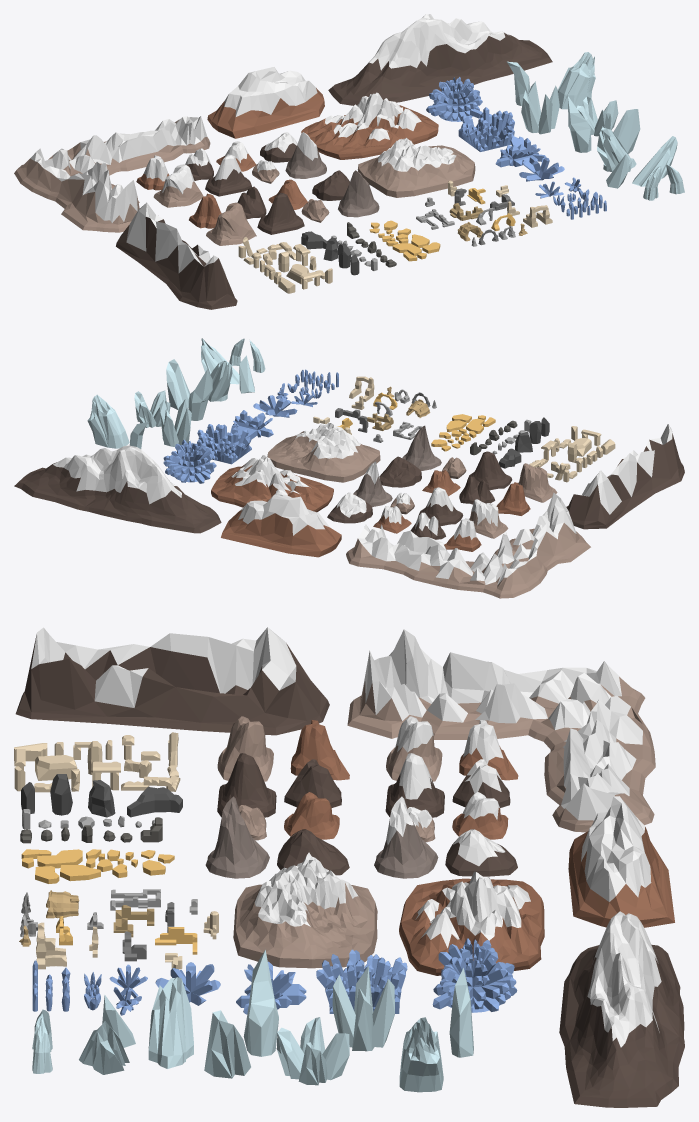
The model's file is stones_main.fbx.
The picture shows the model from 3 angles, top to bottom: view 1: azimuth 30°, elevation 25°; view 2: azimuth 150°, elevation 25°; view 3: azimuth 270°, elevation 25°; orthographic projection. The views are drawn at different scales.
Visible parts, largest first — view 1: mountain_2, mountain_4, mountain_1, mountain_3, mountain_22, mountain_21, crystal_23, crystal_22, sharp_rock_9, sharp_rock_8, mountain_13, mountain_5 (+23 smaller); view 2: mountain_2, mountain_4, mountain_1, mountain_3, mountain_21, mountain_22, crystal_23, crystal_22, sharp_rock_9, sharp_rock_8, mountain_13, mountain_5 (+21 smaller); view 3: mountain_2, mountain_1, mountain_4, mountain_21, mountain_22, mountain_3, crystal_23, sharp_rock_8, sharp_rock_7, sharp_rock_4, mountain_8, mountain_16 (+30 smaller).
Boxes of the visible parts, x1,y1,x2,y2 form: mountain_2: (14,116,210,232); mountain_4: (328,14,552,105); mountain_1: (116,202,237,309); mountain_3: (207,67,324,138); mountain_22: (301,92,438,159); mountain_21: (357,137,475,197); crystal_23: (426,77,482,121); crystal_22: (458,107,514,151); sharp_rock_9: (558,52,595,109); sharp_rock_8: (521,81,559,134); mountain_13: (153,164,203,207); mountain_5: (206,202,256,245); mountain_2: (346,492,590,598); mountain_4: (14,445,221,533); mountain_1: (566,424,684,529); mountain_3: (221,495,341,557); mountain_21: (267,423,380,482); mountain_22: (211,455,333,512); crystal_23: (163,439,216,483); crystal_22: (197,424,251,464); sharp_rock_9: (87,394,129,448); sharp_rock_8: (159,399,191,446); mountain_13: (469,499,508,538); mountain_5: (518,463,557,502); mountain_2: (347,629,655,832); mountain_1: (15,627,329,735); mountain_4: (559,911,684,1107); mountain_21: (233,852,377,968); mountain_22: (399,871,544,975); mountain_3: (568,796,674,927); crystal_23: (432,938,517,1012); sharp_rock_8: (332,966,394,1051); sharp_rock_7: (276,1017,349,1085); sharp_rock_4: (148,977,193,1068); mountain_8: (205,796,269,878); mountain_16: (374,796,438,878).
Size of the model in its own units: 4871 by 549 by 3300.
Materials: 1 (1 with a texture image).
